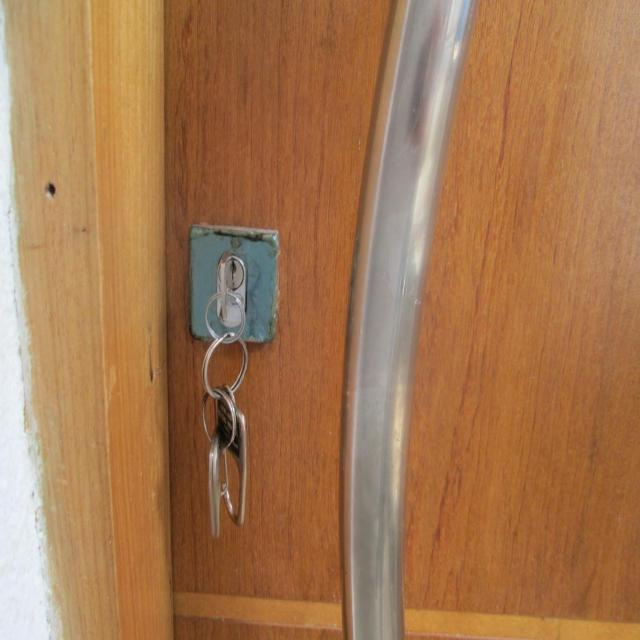Frontdoor keys: (204, 244, 255, 325)
